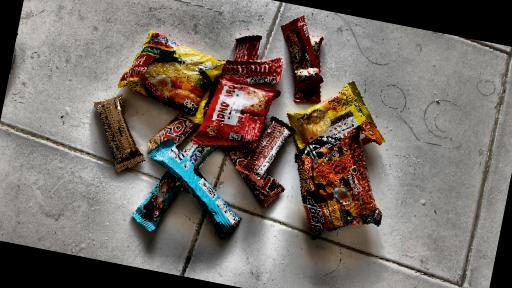dilan: (135, 136, 254, 238)
indomie: (105, 16, 231, 127)
mie sedap: (286, 131, 400, 245)
